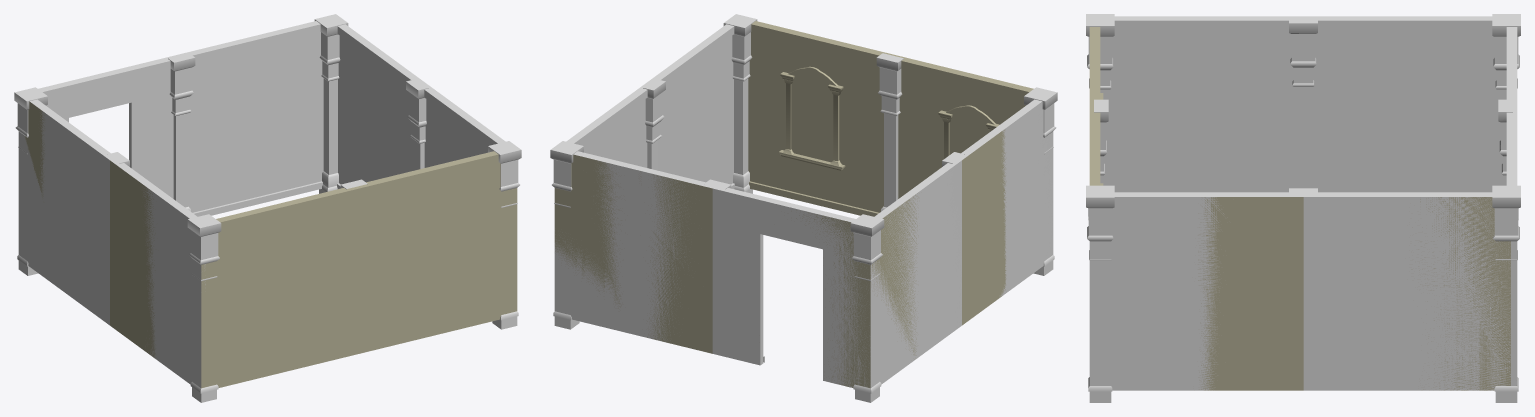
File: Homeworld_Interior_Md_Room_H_Wall_01_Vo.fbx
3 views of the same model, side by side, from view 1: azimuth 30°, elevation 25°; view 2: azimuth 150°, elevation 25°; view 3: azimuth 270°, elevation 25° (orthographic). The views are drawn at different scales.
Parts seen in each view (by area): view 1: Homeworld_Interior_Md_Room_Wall_01_Vo (×5), Homeworld_Interior_Md_Room_H_Filling_01_Vo, Homeworld_Interior_Md_Room_Wall_03_Vo (×2), Homeworld_Interior_Md_Room_Wall_06_Vo, Homeworld_Interior_Md_Room_Pillar_01_Vo (×4), Homeworld_Interior_Md_Room_Pillar_02_Vo (×2); view 2: Homeworld_Interior_Md_Room_Wall_01_Vo (×5), Homeworld_Interior_Md_Room_Wall_03_Vo (×2), Homeworld_Interior_Md_Room_H_Filling_01_Vo, Homeworld_Interior_Md_Room_Wall_06_Vo, Homeworld_Interior_Md_Room_Pillar_01_Vo (×4), Homeworld_Interior_Md_Room_Pillar_02_Vo (×2); view 3: Homeworld_Interior_Md_Room_Wall_01_Vo (×5), Homeworld_Interior_Md_Room_H_Filling_01_Vo, Homeworld_Interior_Md_Room_Pillar_01_Vo (×4), Homeworld_Interior_Md_Room_Pillar_02_Vo (×3), Homeworld_Interior_Md_Room_Wall_03_Vo (×2), Homeworld_Interior_Md_Room_Wall_06_Vo.
Boxes of the visible parts, box(x1,y1,x2,y2) form: Homeworld_Interior_Md_Room_Wall_01_Vo (×5): box(18, 21, 505, 387); Homeworld_Interior_Md_Room_H_Filling_01_Vo: box(24, 101, 517, 388); Homeworld_Interior_Md_Room_Wall_03_Vo (×2): box(216, 151, 517, 337); Homeworld_Interior_Md_Room_Wall_06_Vo: box(38, 55, 177, 198); Homeworld_Interior_Md_Room_Pillar_01_Vo (×4): box(14, 14, 521, 402); Homeworld_Interior_Md_Room_Pillar_02_Vo (×2): box(168, 53, 428, 211); Homeworld_Interior_Md_Room_Wall_01_Vo (×5): box(554, 24, 1053, 387); Homeworld_Interior_Md_Room_Wall_03_Vo (×2): box(748, 21, 1033, 216); Homeworld_Interior_Md_Room_H_Filling_01_Vo: box(554, 129, 1006, 388); Homeworld_Interior_Md_Room_Wall_06_Vo: box(712, 186, 870, 387); Homeworld_Interior_Md_Room_Pillar_01_Vo (×4): box(550, 14, 1057, 402); Homeworld_Interior_Md_Room_Pillar_02_Vo (×2): box(643, 53, 903, 211); Homeworld_Interior_Md_Room_Wall_01_Vo (×5): box(1089, 16, 1517, 390); Homeworld_Interior_Md_Room_H_Filling_01_Vo: box(1198, 197, 1516, 390); Homeworld_Interior_Md_Room_Pillar_01_Vo (×4): box(1086, 14, 1520, 402); Homeworld_Interior_Md_Room_Pillar_02_Vo (×3): box(1094, 17, 1512, 188); Homeworld_Interior_Md_Room_Wall_03_Vo (×2): box(1089, 27, 1103, 185); Homeworld_Interior_Md_Room_Wall_06_Vo: box(1506, 27, 1517, 106).
Size of what is drawn, in the model's own units: 10.17 by 5.34 by 10.17.
